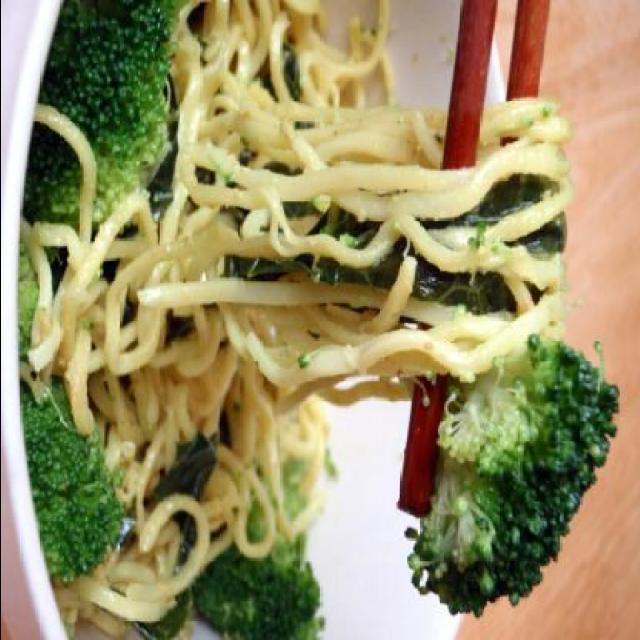Broccoli: (406, 330, 624, 616), (22, 0, 178, 229), (19, 370, 123, 582), (194, 526, 323, 640), (17, 242, 40, 360)
